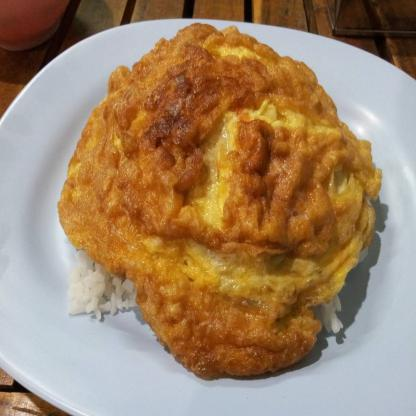Omelette: (56, 22, 387, 380)
